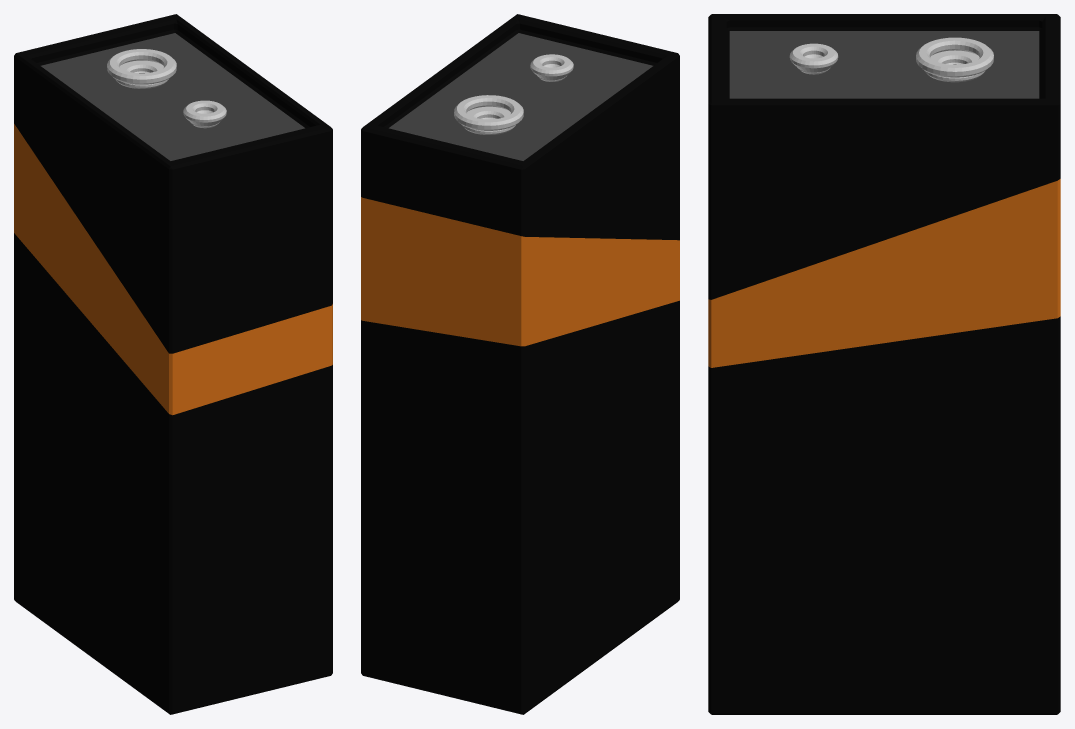
Rendered from battery.fbx.
3 renders of one model, left to right at view 1: azimuth 30°, elevation 25°; view 2: azimuth 150°, elevation 25°; view 3: azimuth 270°, elevation 25°, orthographic. The views are drawn at different scales.
Parts seen in each view (by area): view 1: Anode; view 2: Anode; view 3: Anode.
Part boxes in pixels (x1=…): Anode: x1=14, y1=14, x2=332, y2=714; Anode: x1=361, y1=14, x2=679, y2=714; Anode: x1=708, y1=14, x2=1060, y2=714.
Bounding box in the file's own units: 3 × 9.68 × 5.
